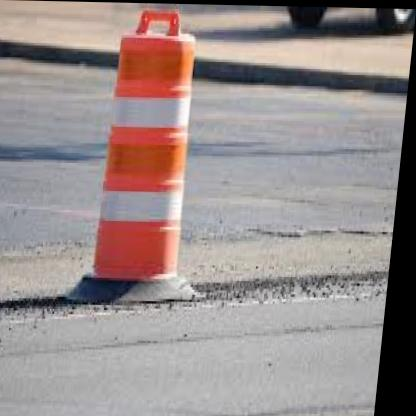obstacle: (92, 14, 203, 288)
